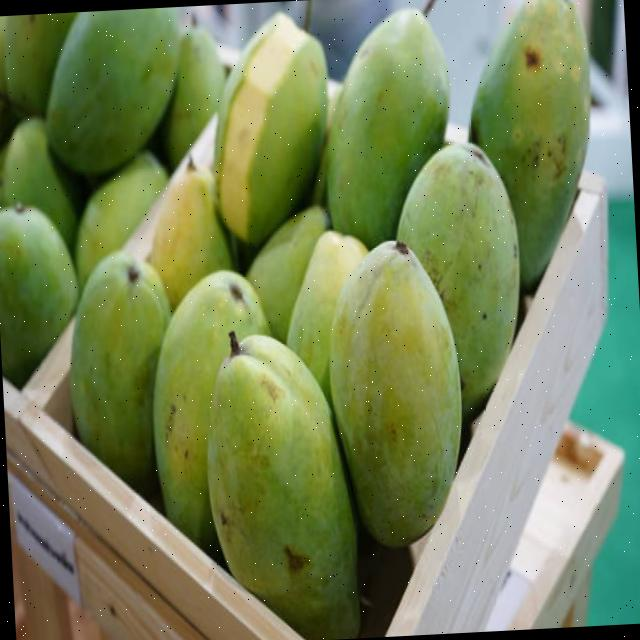mango: (209, 337, 360, 639), (330, 241, 462, 547), (469, 0, 589, 290), (397, 144, 520, 417), (153, 271, 269, 559), (327, 9, 448, 247), (215, 13, 325, 244), (70, 250, 171, 494), (46, 9, 179, 173), (287, 230, 368, 405), (0, 205, 78, 386), (75, 152, 168, 287), (150, 158, 233, 308), (247, 207, 330, 342), (0, 119, 81, 248), (162, 30, 225, 168)
